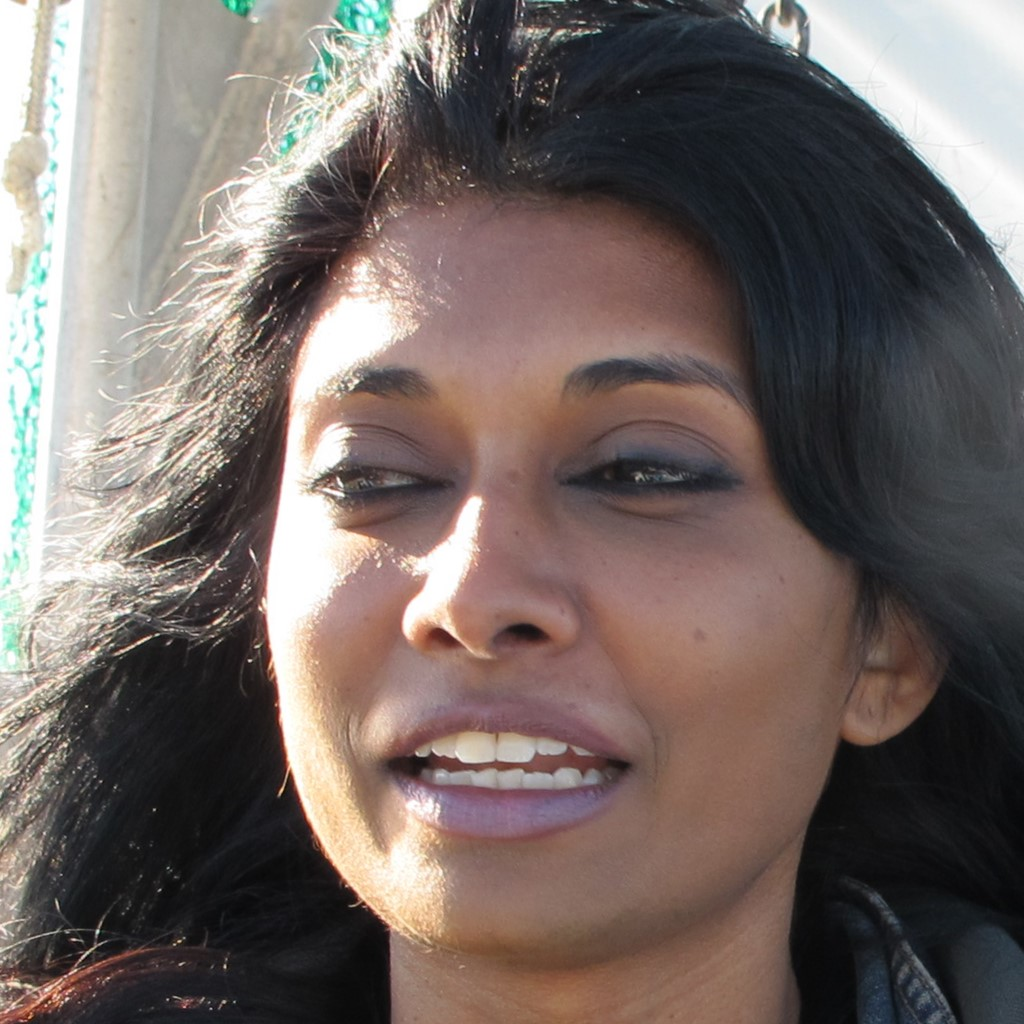sin_mascara: (270, 171, 893, 967)
